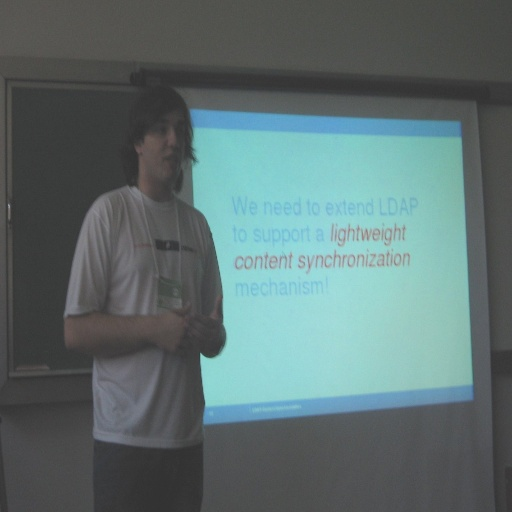hand: (157, 301, 205, 357), (184, 294, 224, 357)
